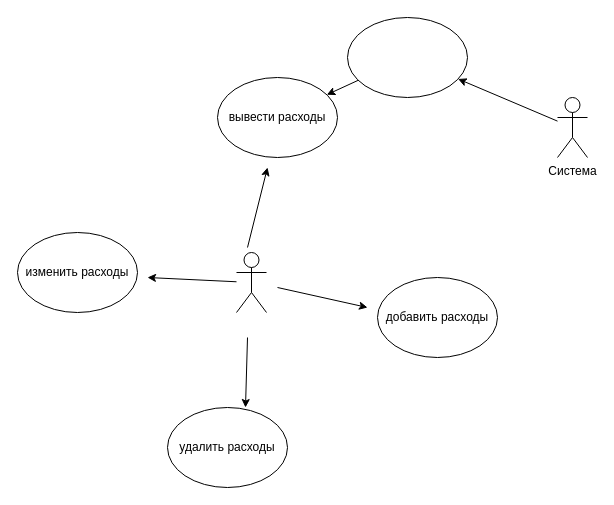
This 614x505 diagram has some shape labels left out. Each missing label, with the box of its shape:
пользоватиель: (236, 252, 266, 312)
сортировка данных: (346, 16, 468, 98)
